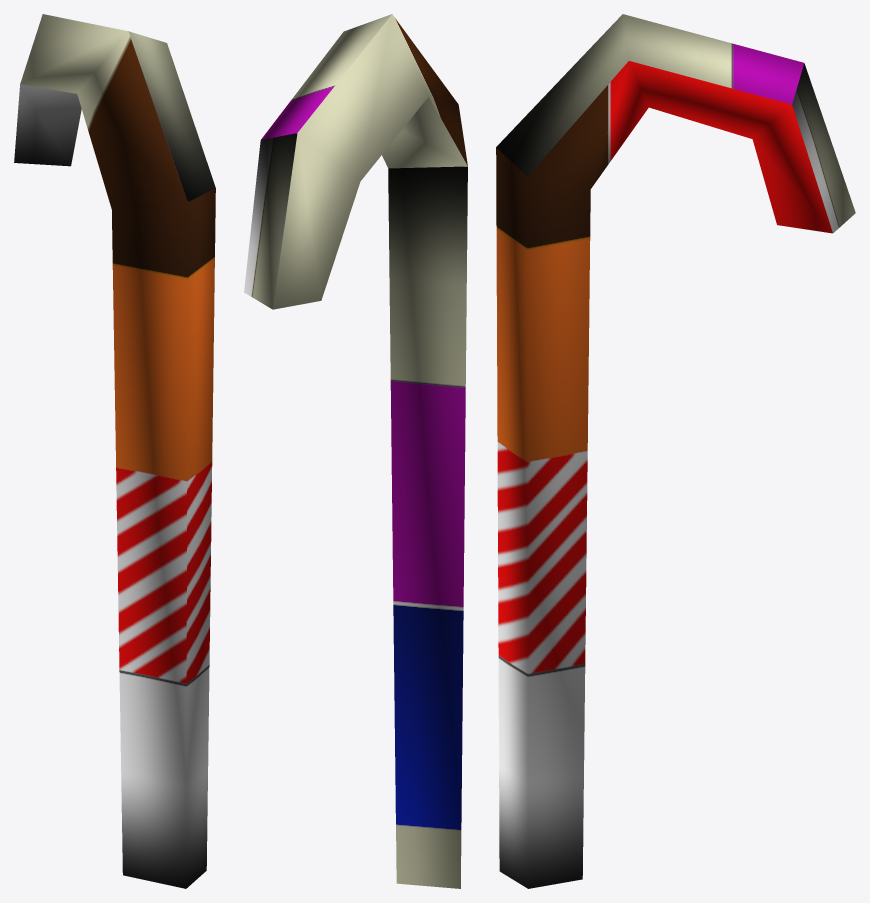
Rendered from shugar stik lp.fbx.
3 renders of one model, left to right at view 1: azimuth 30°, elevation 25°; view 2: azimuth 150°, elevation 25°; view 3: azimuth 270°, elevation 25°, orthographic. The views are drawn at different scales.
Parts seen in each view (by area): view 1: bastoncino_lp; view 2: bastoncino_lp; view 3: bastoncino_lp.
Part boxes in pixels (<box>): bastoncino_lp: <box>14,14,215,888</box>; bastoncino_lp: <box>244,14,467,888</box>; bastoncino_lp: <box>496,14,855,888</box>.
Bounding box in the file's own units: 0.2115 × 1.93 × 0.7337.
